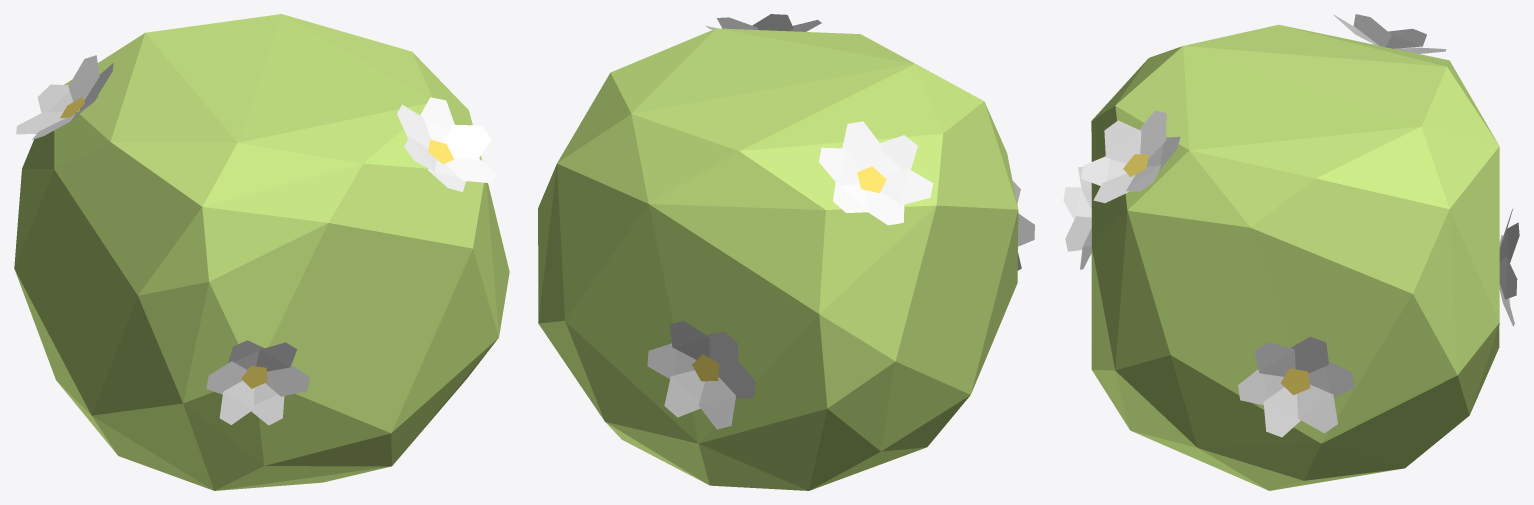
The model's file is FlowerBush_a_m_05.fbx.
3 views of the same model, side by side, from view 1: azimuth 30°, elevation 25°; view 2: azimuth 150°, elevation 25°; view 3: azimuth 270°, elevation 25° (orthographic). The views are drawn at different scales.
Parts seen in each view (by area): view 1: FlowerBush_a_m_05_LOD0; view 2: FlowerBush_a_m_05_LOD0; view 3: FlowerBush_a_m_05_LOD0.
Part boxes in pixels (bbox=[...]): FlowerBush_a_m_05_LOD0: bbox=[14, 14, 509, 490]; FlowerBush_a_m_05_LOD0: bbox=[538, 14, 1034, 490]; FlowerBush_a_m_05_LOD0: bbox=[1063, 14, 1519, 490].
Size of what is drawn, in the model's own units: 126 by 124 by 131.
